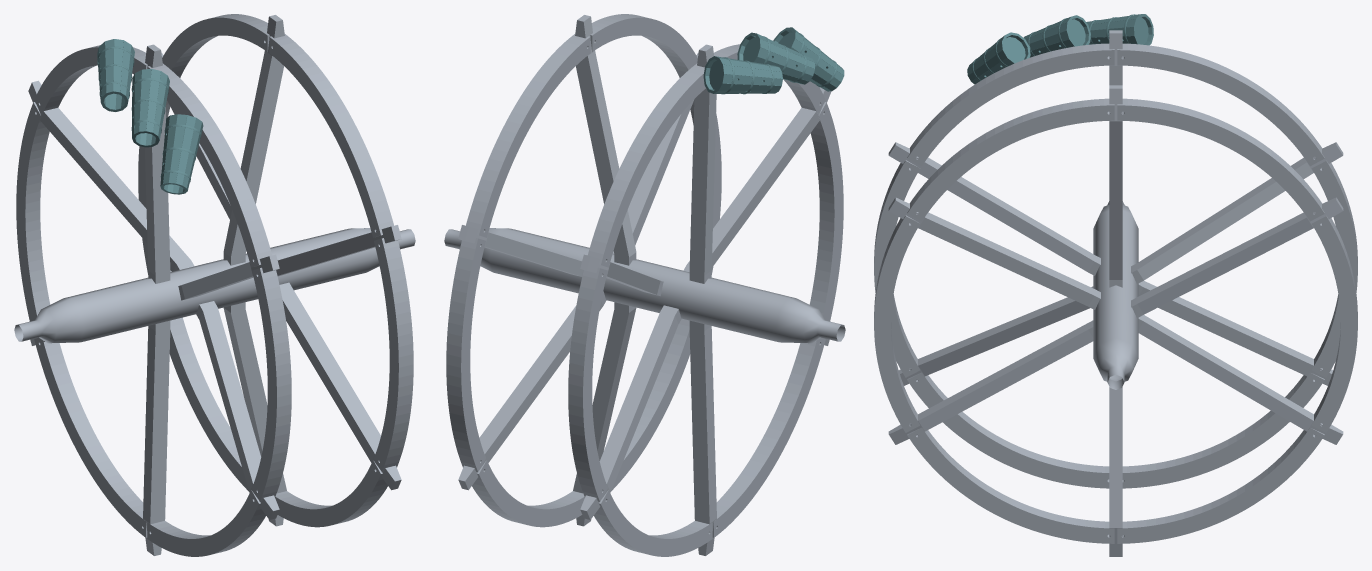
File: truth-ITER-001.glb
3 renders of one model, left to right at view 1: azimuth 30°, elevation 25°; view 2: azimuth 150°, elevation 25°; view 3: azimuth 270°, elevation 25°, orthographic. The views are drawn at different scales.
Visible parts, largest first — view 1: HYP-SHAFT, HIST-ARM-LAND-3-6, HIST-ARM-LAND-1-4, HIST-ARM-WATER-1-4, HIST-KRU-LAND-02, HIST-KRU-WATER-02, HIST-KRU-WATER-01, HIST-ARM-WATER-3-6, HIST-KRU-LAND-04, HIST-KRU-LAND-05, HIST-KRU-LAND-01, HIST-KRU-WATER-04 (+11 smaller); view 2: HYP-SHAFT, HIST-ARM-LAND-1-4, HIST-ARM-LAND-2-5, HIST-ARM-WATER-1-4, HIST-ARM-WATER-2-5, HIST-KRU-LAND-05, HIST-KRU-WATER-05, HIST-KRU-WATER-06, HIST-KRU-LAND-06, HIST-KRU-LAND-03, HIST-KRU-LAND-02, HIST-KRU-WATER-03 (+9 smaller); view 3: HIST-ARM-WATER-3-6, HIST-ARM-WATER-2-5, HIST-ARM-LAND-3-6, HIST-ARM-LAND-2-5, HYP-SHAFT, HIST-KRU-LAND-01, HIST-KRU-LAND-06, HIST-KRU-WATER-01, HIST-KRU-WATER-06, HIST-KRU-WATER-04, HIST-KRU-WATER-03, HIST-ARM-WATER-1-4 (+7 smaller).
Boxes of the visible parts, <box> form: HYP-SHAFT: <box>14,228,415,343</box>; HIST-ARM-LAND-3-6: <box>28,80,279,519</box>; HIST-ARM-LAND-1-4: <box>143,44,170,555</box>; HIST-ARM-WATER-1-4: <box>223,15,286,526</box>; HIST-KRU-LAND-02: <box>252,267,291,501</box>; HIST-KRU-WATER-02: <box>374,238,413,471</box>; HIST-KRU-WATER-01: <box>269,34,393,237</box>; HIST-ARM-WATER-3-6: <box>161,52,401,490</box>; HIST-KRU-LAND-04: <box>34,337,147,537</box>; HIST-KRU-LAND-05: <box>16,102,50,321</box>; HIST-KRU-LAND-01: <box>147,63,271,267</box>; HIST-KRU-WATER-04: <box>169,317,248,491</box>; HYP-SHAFT: <box>444,228,845,343</box>; HIST-ARM-LAND-1-4: <box>689,44,716,555</box>; HIST-ARM-LAND-2-5: <box>580,87,831,519</box>; HIST-ARM-WATER-1-4: <box>573,15,636,526</box>; HIST-ARM-WATER-2-5: <box>458,52,698,490</box>; HIST-KRU-LAND-05: <box>568,267,607,501</box>; HIST-KRU-WATER-05: <box>446,238,485,471</box>; HIST-KRU-WATER-06: <box>466,34,590,237</box>; HIST-KRU-LAND-06: <box>588,63,705,267</box>; HIST-KRU-LAND-03: <box>712,337,825,537</box>; HIST-KRU-LAND-02: <box>809,102,843,321</box>; HIST-KRU-WATER-03: <box>611,318,690,491</box>; HIST-ARM-WATER-3-6: <box>888,197,1343,444</box>; HIST-ARM-WATER-2-5: <box>888,197,1343,444</box>; HIST-ARM-LAND-3-6: <box>898,142,1343,385</box>; HIST-ARM-LAND-2-5: <box>888,142,1333,385</box>; HYP-SHAFT: <box>1093,201,1138,389</box>; HIST-KRU-LAND-01: <box>907,43,1114,166</box>; HIST-KRU-LAND-06: <box>1117,43,1324,166</box>; HIST-KRU-WATER-01: <box>907,98,1114,221</box>; HIST-KRU-WATER-06: <box>1117,98,1324,221</box>; HIST-KRU-WATER-04: <box>1117,427,1324,543</box>; HIST-KRU-WATER-03: <box>907,427,1114,543</box>; HIST-ARM-WATER-1-4: <box>1109,85,1122,556</box>.
Size of the model in its own units: 3.7 by 4.6 by 4.26.
